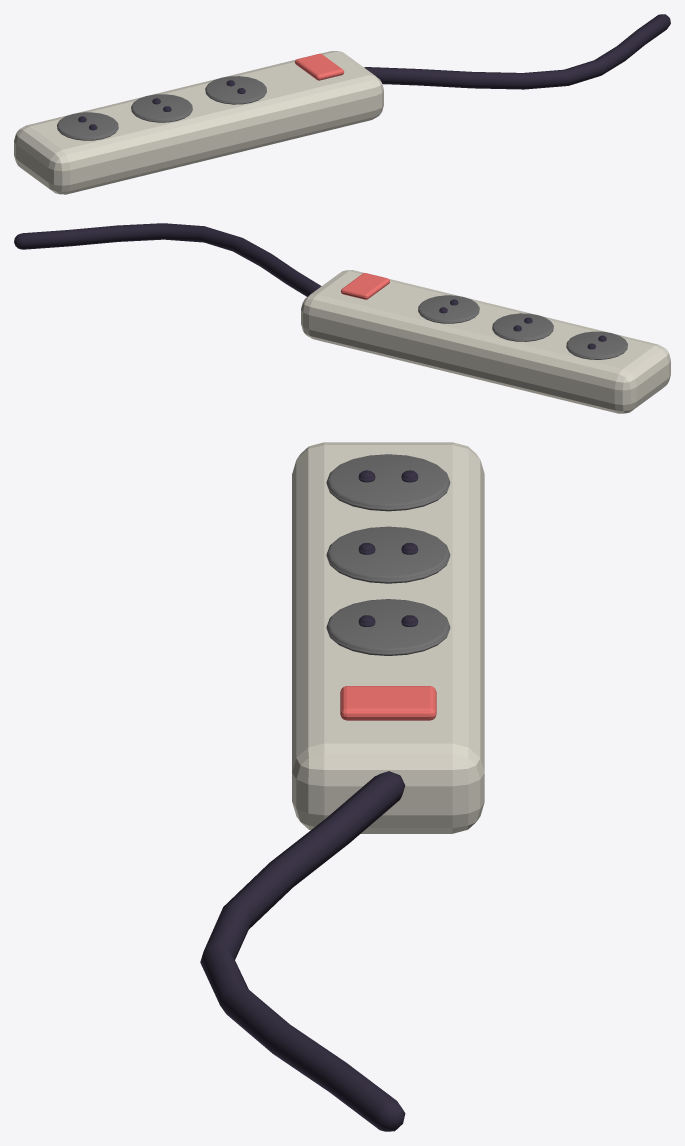
The model's file is power_strip.glb.
3 views of the same model, one above another, from view 1: azimuth 30°, elevation 25°; view 2: azimuth 150°, elevation 25°; view 3: azimuth 270°, elevation 25° (orthographic). The views are drawn at different scales.
Parts seen in each view (by area): view 1: Strip, Wire, Recessed_socket.001, Recessed_socket, Recessed_socket.002, Switch; view 2: Strip, Wire, Recessed_socket, Recessed_socket.002, Recessed_socket.001, Switch; view 3: Strip, Wire, Recessed_socket.001, Recessed_socket, Recessed_socket.002, Switch.
Boxes of the visible parts, x1=… form: Strip: x1=14, y1=51, x2=383, y2=194; Wire: x1=364, y1=14, x2=670, y2=89; Recessed_socket.001: x1=131, y1=94, x2=192, y2=122; Recessed_socket: x1=57, y1=112, x2=118, y2=140; Recessed_socket.002: x1=205, y1=76, x2=266, y2=104; Switch: x1=295, y1=53, x2=344, y2=80; Strip: x1=301, y1=270, x2=670, y2=413; Wire: x1=14, y1=223, x2=321, y2=296; Recessed_socket: x1=566, y1=331, x2=627, y2=359; Recessed_socket.002: x1=418, y1=295, x2=479, y2=323; Recessed_socket.001: x1=492, y1=313, x2=553, y2=341; Switch: x1=340, y1=273, x2=389, y2=299; Strip: x1=292, y1=442, x2=484, y2=833; Wire: x1=200, y1=771, x2=405, y2=1131; Recessed_socket.001: x1=326, y1=526, x2=450, y2=583; Recessed_socket: x1=326, y1=454, x2=450, y2=511; Recessed_socket.002: x1=326, y1=599, x2=450, y2=655; Switch: x1=340, y1=686, x2=436, y2=720.
Size of the model in its own units: 0.6879 by 0.0525 by 0.1329.
